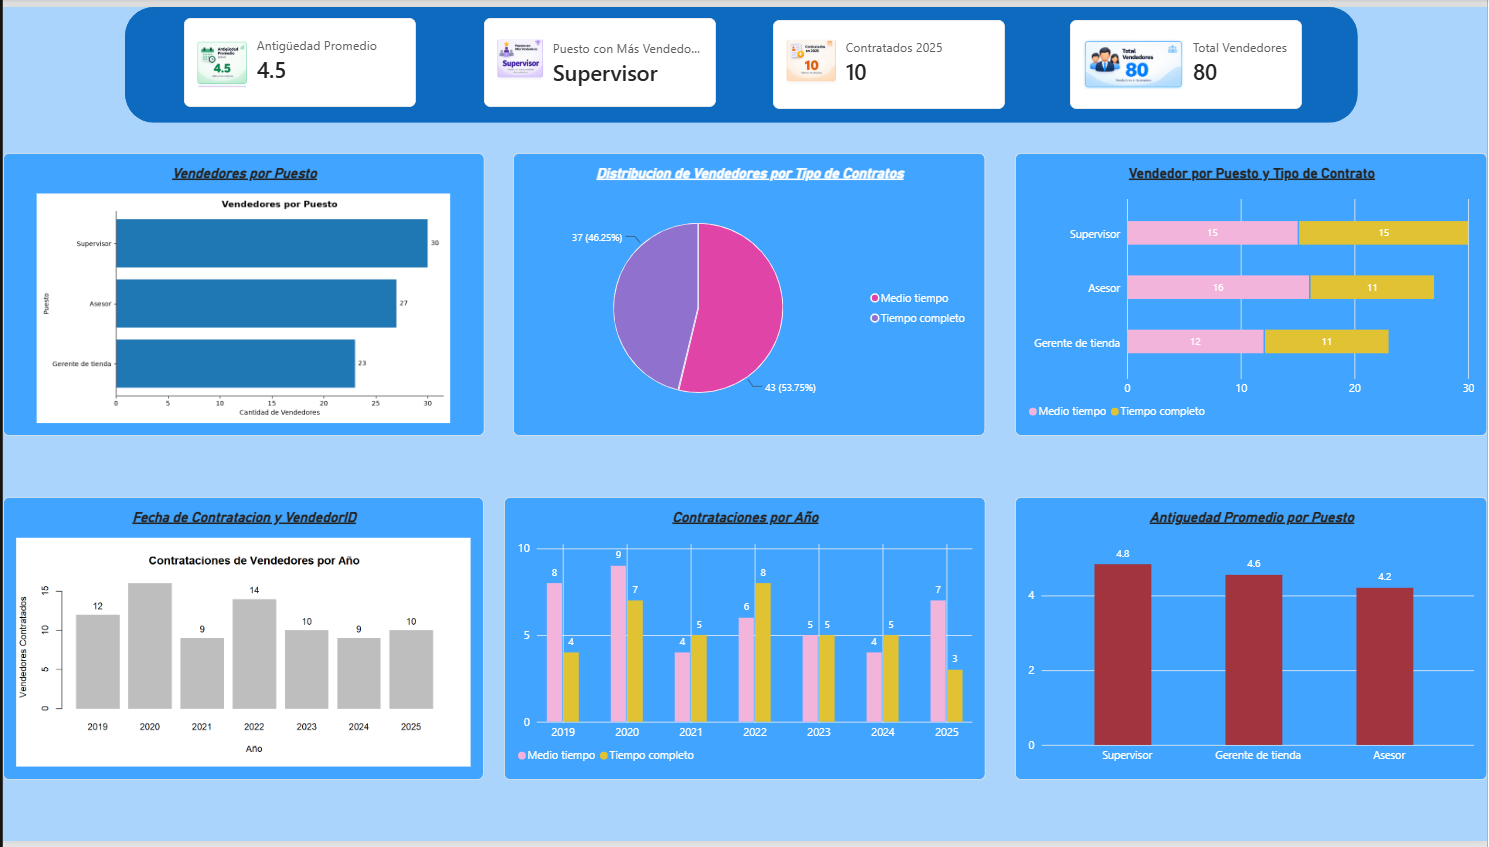

This screenshot's page, from the dashboard's own definition file:
{"tool":"powerbi","page":{"name":"👥 Vendedores","canvas":[1920,1080],"ordinal":4},"visuals":[{"type":"shape","box":[157.7,0,1594.9,149.6],"z":0},{"type":"cardVisual","fields":{"Data":["Dim_Vendedores.Total Vendedores"]},"box":[1380.3,16.3,300,115],"z":1000},{"type":"pythonVisual","title":"Vendedores por Puesto","fields":{"Values":["Dim_Vendedores.Puesto","Dim_Vendedores.VendedorID"]},"box":[0,188.6,623,366.2],"z":2000},{"type":"scriptVisual","title":"Fecha de Contratacion y VendedorID","fields":{"Values":["Dim_Vendedores.FechaContratacion","Dim_Vendedores.VendedorID"]},"box":[0,634,622,366],"z":3000},{"type":"pieChart","title":"Distribucion de Vendedores por Tipo de Contratos","fields":{"Category":["Dim_Vendedores.TipoContrato"],"Y":["Count(Dim_Vendedores.VendedorID)"]},"box":[660.1,188.6,611.3,365.8],"z":4000},{"type":"clusteredColumnChart","title":"Contrataciones por Año","fields":{"Category":["Dim_Vendedores.FechaContratacion.Variación.Jerarquía de fechas.Año"],"Series":["Dim_Vendedores.TipoContrato"],"Y":["CountNonNull(Dim_Vendedores.VendedorID)"]},"box":[648.7,634,622.7,365.8],"z":5000},{"type":"barChart","title":"Vendedor por Puesto y Tipo de Contrato","fields":{"Category":["Dim_Vendedores.Puesto"],"Series":["Dim_Vendedores.TipoContrato"],"Y":["CountNonNull(Dim_Vendedores.VendedorID)"]},"box":[1308.7,188.6,611.3,365.8],"z":6000},{"type":"clusteredColumnChart","title":"Antiguedad Promedio por Puesto","fields":{"Category":["Dim_Vendedores.Puesto"],"Y":["Dim_Vendedores.Antigüedad Promedio Años"]},"box":[1308.7,634,611.3,365.8],"z":7000},{"type":"cardVisual","fields":{"Data":["Dim_Vendedores.Antigüedad Promedio Años"]},"box":[234.1,14.6,300.8,115],"z":8000},{"type":"cardVisual","fields":{"Data":["Dim_Vendedores.Contratados 2025"]},"box":[996.6,16.3,300,115.4],"z":9000},{"type":"cardVisual","fields":{"Data":["Dim_Vendedores.Puesto con Más Vendedores"]},"box":[622.7,14.6,300.8,115.4],"z":10000}]}

Visuals, with their boxes in screenshot pixels (x1, y1, x2, y2), scaled from the page's 1920x1080 canvas onto the 1489x847 screenshot:
shape: l=122, t=0, r=1359, b=117
cardVisual - Dim_Vendedores.Total Vendedores: l=1070, t=13, r=1303, b=103
"Vendedores por Puesto" pythonVisual: l=0, t=148, r=483, b=435
"Fecha de Contratacion y VendedorID" scriptVisual: l=0, t=497, r=482, b=784
"Distribucion de Vendedores por Tipo de Contratos" pieChart: l=512, t=148, r=986, b=435
"Contrataciones por Año" clusteredColumnChart: l=503, t=497, r=986, b=784
"Vendedor por Puesto y Tipo de Contrato" barChart: l=1015, t=148, r=1488, b=435
"Antiguedad Promedio por Puesto" clusteredColumnChart: l=1015, t=497, r=1488, b=784
cardVisual - Dim_Vendedores.Antigüedad Promedio Años: l=182, t=11, r=415, b=102
cardVisual - Dim_Vendedores.Contratados 2025: l=773, t=13, r=1006, b=103
cardVisual - Dim_Vendedores.Puesto con Más Vendedores: l=483, t=11, r=716, b=102
